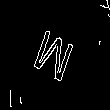M_SW: (30, 22, 80, 88)
